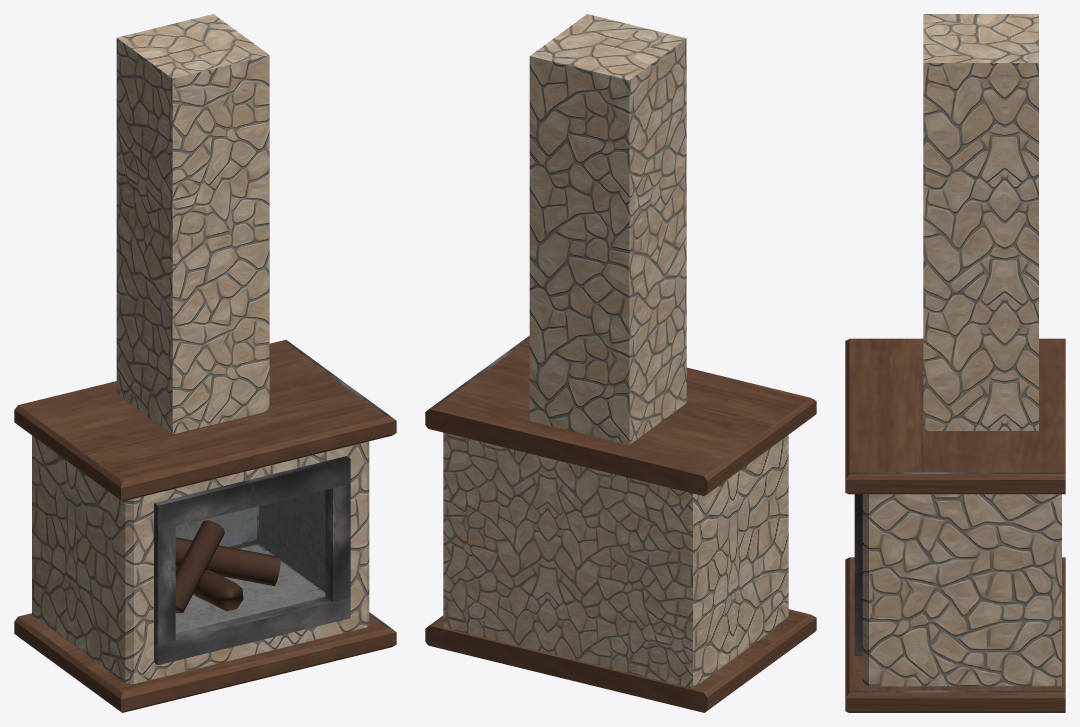
The model's file is Chimmey.fbx.
3 views of the same model, side by side, from view 1: azimuth 30°, elevation 25°; view 2: azimuth 150°, elevation 25°; view 3: azimuth 270°, elevation 25° (orthographic). The views are drawn at different scales.
Visible parts, largest first — view 1: Structure, Pillar, Wood; view 2: Structure, Pillar; view 3: Structure, Pillar.
Part boxes in pixels (bbox=[...]): Structure: bbox=[14, 340, 396, 712]; Pillar: bbox=[116, 14, 269, 434]; Wood: bbox=[175, 520, 280, 613]; Structure: bbox=[425, 335, 816, 712]; Pillar: bbox=[529, 14, 686, 444]; Structure: bbox=[845, 338, 1065, 712]; Pillar: bbox=[923, 14, 1038, 430].
Bounding box in the file's own units: 141 × 287 × 94.48.
1 material, 1 textured.
